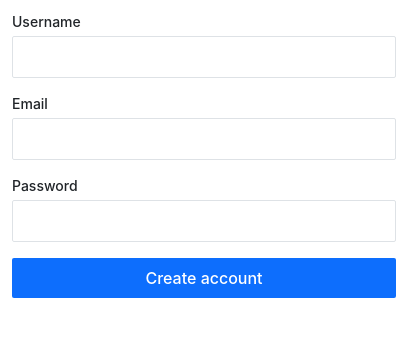
Test: RegisterForm › shows error when email is empty on submit
In the field labelled "Username": (204, 57) [12,36,396,78], type "testuser"
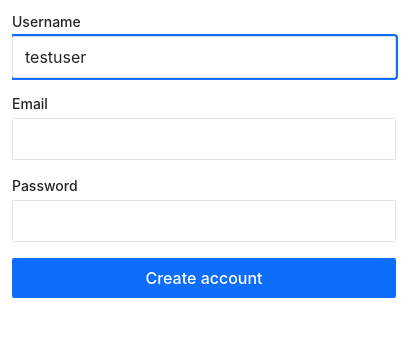
In the password field labelled "Password": (204, 221) [12,200,396,242], type "password123"
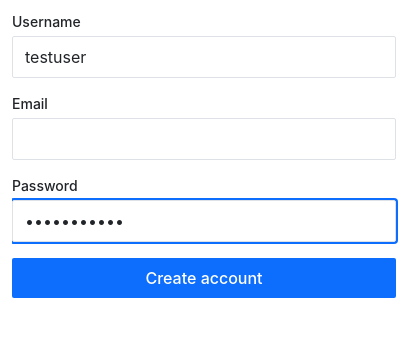
Click the button "Create account": (204, 278) [12,258,396,298]
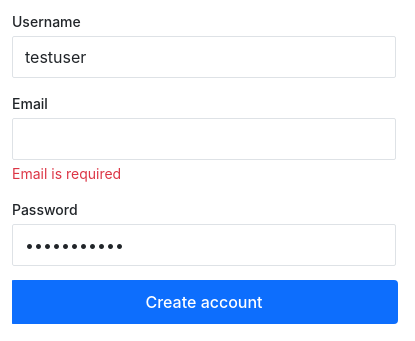
Check: the text "Email is required" is shown, box [12,165,121,182]
